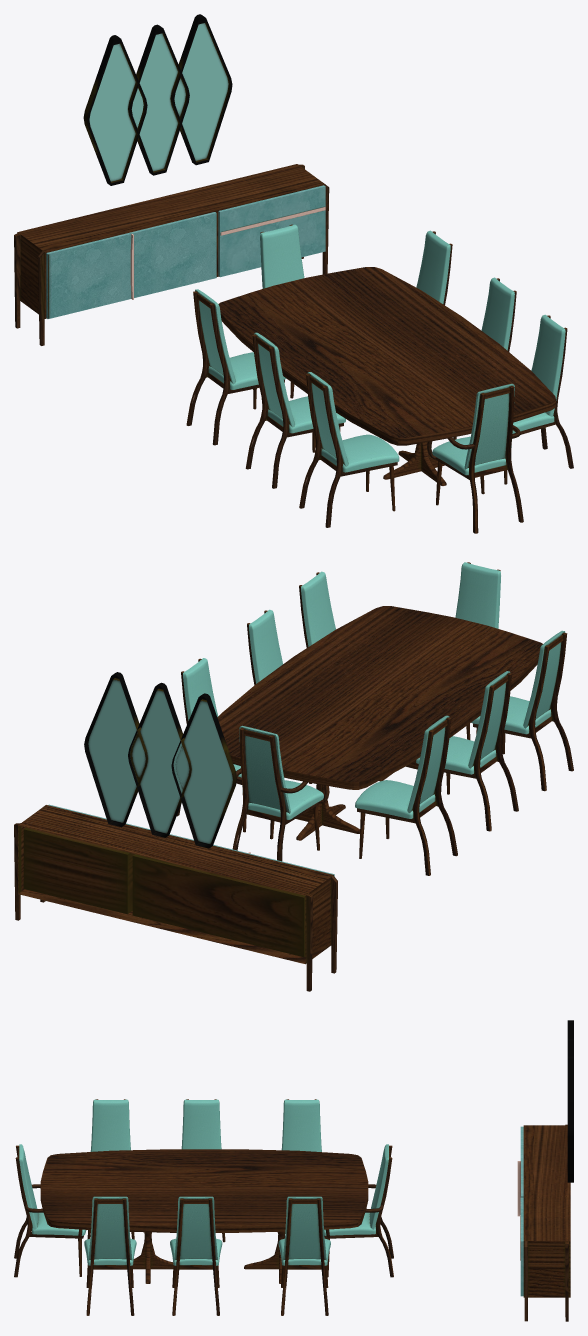
The picture shows the model from 3 angles, top to bottom: view 1: azimuth 30°, elevation 25°; view 2: azimuth 150°, elevation 25°; view 3: azimuth 270°, elevation 25°; orthographic projection. The views are drawn at different scales.
Parts seen in each view (by area): view 1: Table, Ornament, Sideboard, Puertagrande, Puertaderecha, Puertaizquierda, ChairA, ChairB, ChairD, ChairC, ChairH, ChairE (+2 smaller); view 2: Table, Sideboard, Ornament, ChairE, ChairD, ChairC, ChairB, ChairA, ChairH, ChairG, ChairF; view 3: Table, Sideboard, ChairH, ChairF, ChairG, ChairA, ChairE, ChairB, ChairD, ChairC, Ornament, Puertagrande.
Part boxes in pixels (x1,y1,x2,y2): Table: (218, 267, 555, 485); Ornament: (83, 14, 232, 185); Sideboard: (14, 164, 329, 345); Puertagrande: (218, 185, 325, 277); Puertaderecha: (129, 212, 216, 299); Puertaizquierda: (46, 233, 130, 318); ChairA: (427, 383, 523, 533); ChairB: (299, 372, 399, 527); ChairD: (186, 289, 286, 445); ChairC: (245, 332, 345, 488); ChairH: (504, 314, 573, 484); ChairE: (260, 224, 304, 398); Table: (217, 606, 542, 840); Sideboard: (14, 805, 337, 991); Ornament: (84, 672, 236, 848); ChairE: (232, 725, 329, 861); ChairD: (355, 715, 457, 875); ChairC: (416, 671, 518, 831); ChairB: (471, 630, 573, 791); ChairA: (455, 562, 500, 739); ChairH: (299, 571, 335, 647); ChairG: (247, 609, 311, 783); ChairF: (177, 658, 246, 832); Table: (40, 1149, 368, 1283); Sideboard: (523, 1124, 570, 1321); ChairH: (84, 1196, 136, 1315); ChairF: (278, 1196, 330, 1315); ChairG: (170, 1196, 222, 1315); ChairA: (14, 1144, 86, 1277); ChairE: (324, 1144, 393, 1277); ChairB: (87, 1099, 134, 1239); ChairD: (281, 1099, 324, 1238); ChairC: (181, 1099, 225, 1242); Ornament: (567, 1020, 573, 1182); Puertagrande: (520, 1197, 523, 1296).
Size of the model in its own units: 272 by 238 by 539.
1 material, 1 textured.
